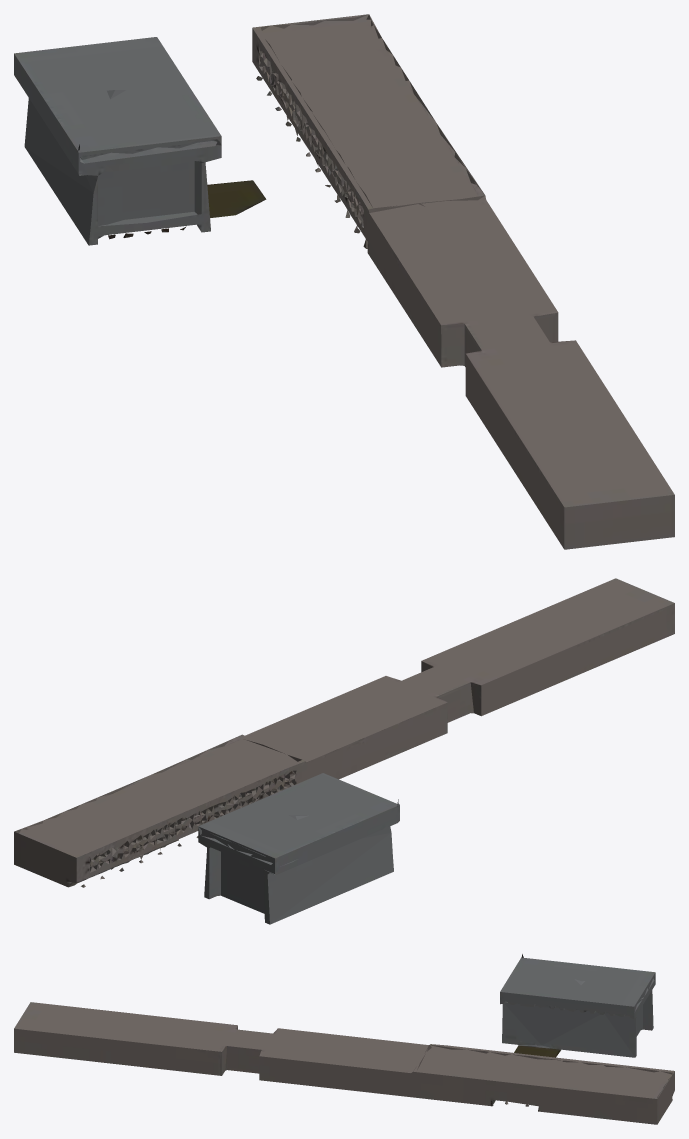
File: t_3_0.coat.glb
3 views of the same model, one above another, from view 1: azimuth 30°, elevation 25°; view 2: azimuth 150°, elevation 25°; view 3: azimuth 270°, elevation 25° (orthographic). The views are drawn at different scales.
Visible parts, largest first — view 1: far; view 2: far; view 3: far.
Part boxes in pixels (x1,y1,x2,y2): far: (14, 14, 674, 549); far: (14, 578, 674, 924); far: (14, 954, 674, 1124).
Bounding box in the file's own units: 116 × 27.94 × 284.
Materials: 1 (1 with a texture image).
